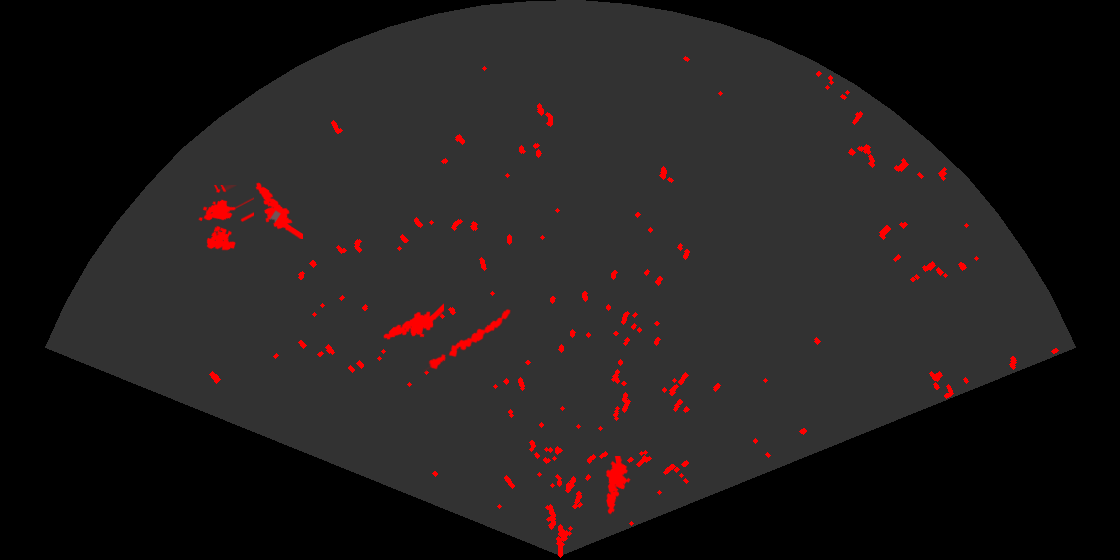cage: (197, 185, 254, 252)
chain: (423, 307, 512, 374)
frogman: (254, 181, 303, 239), (382, 302, 444, 341), (604, 456, 632, 516)
